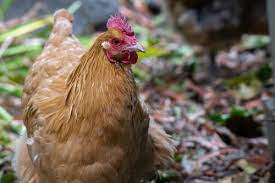buff: (53, 24, 150, 127)
